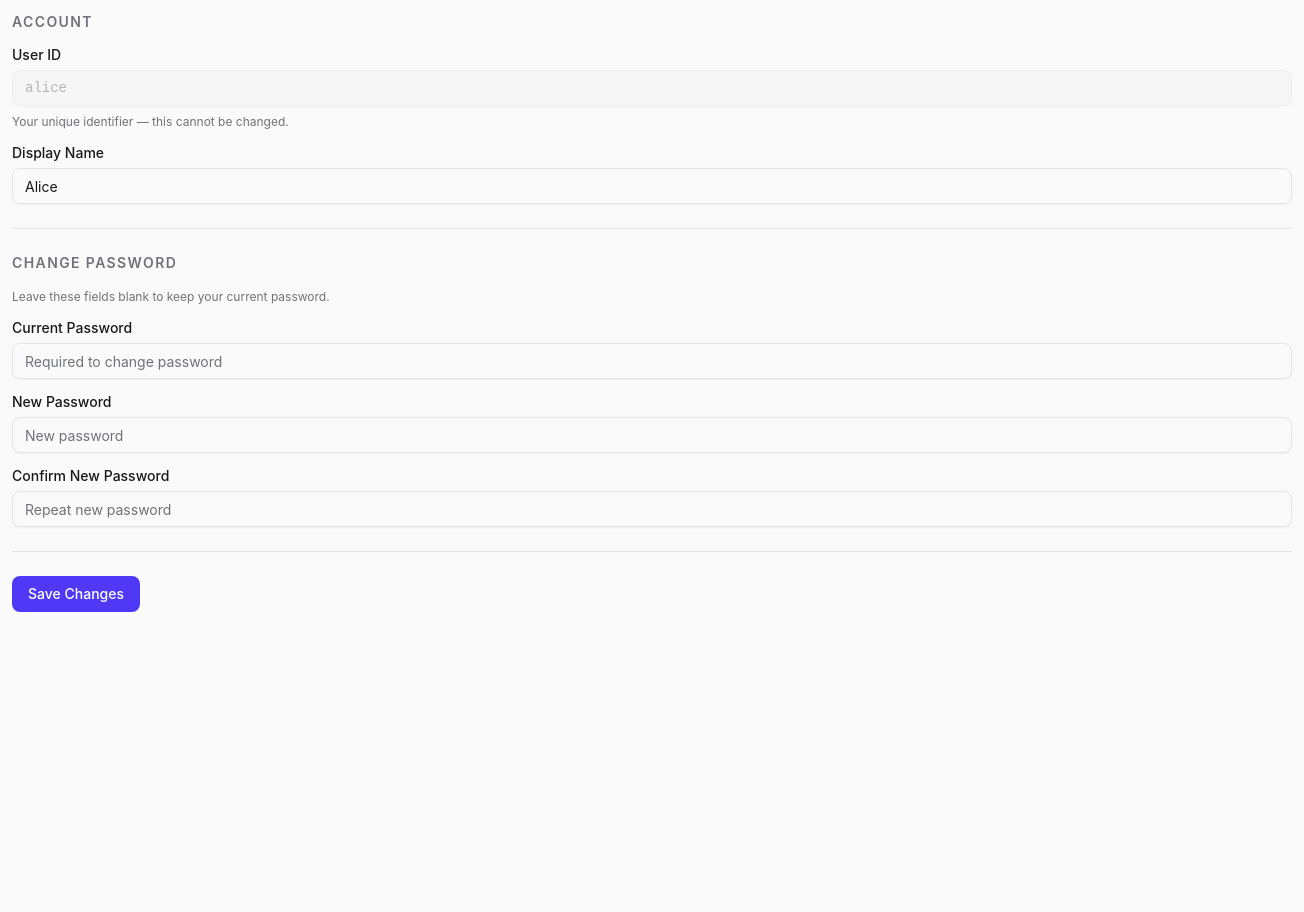
Test: ProfileForm › requires current password when setting new password
This screenshot has width=1304, height=912.
Check: the field labelled "Display Name" holds "Alice", box [12,168,1292,204]
Type "newpass" into the password field labelled "New Password" at x=652, y=435, box [12,417,1292,453]
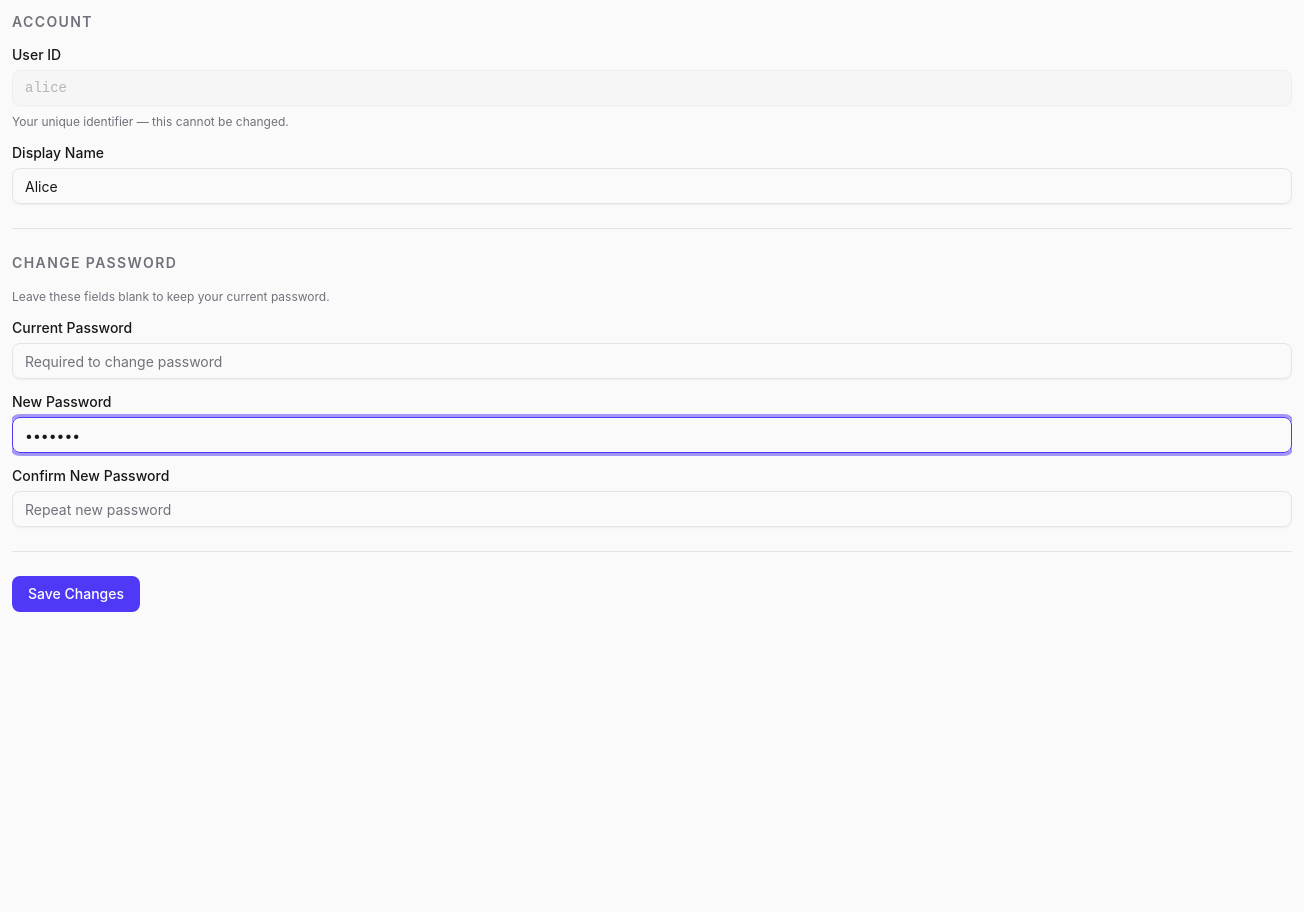
Type "newpass" into the password field labelled "Confirm New Password" at x=652, y=509, box [12,491,1292,527]
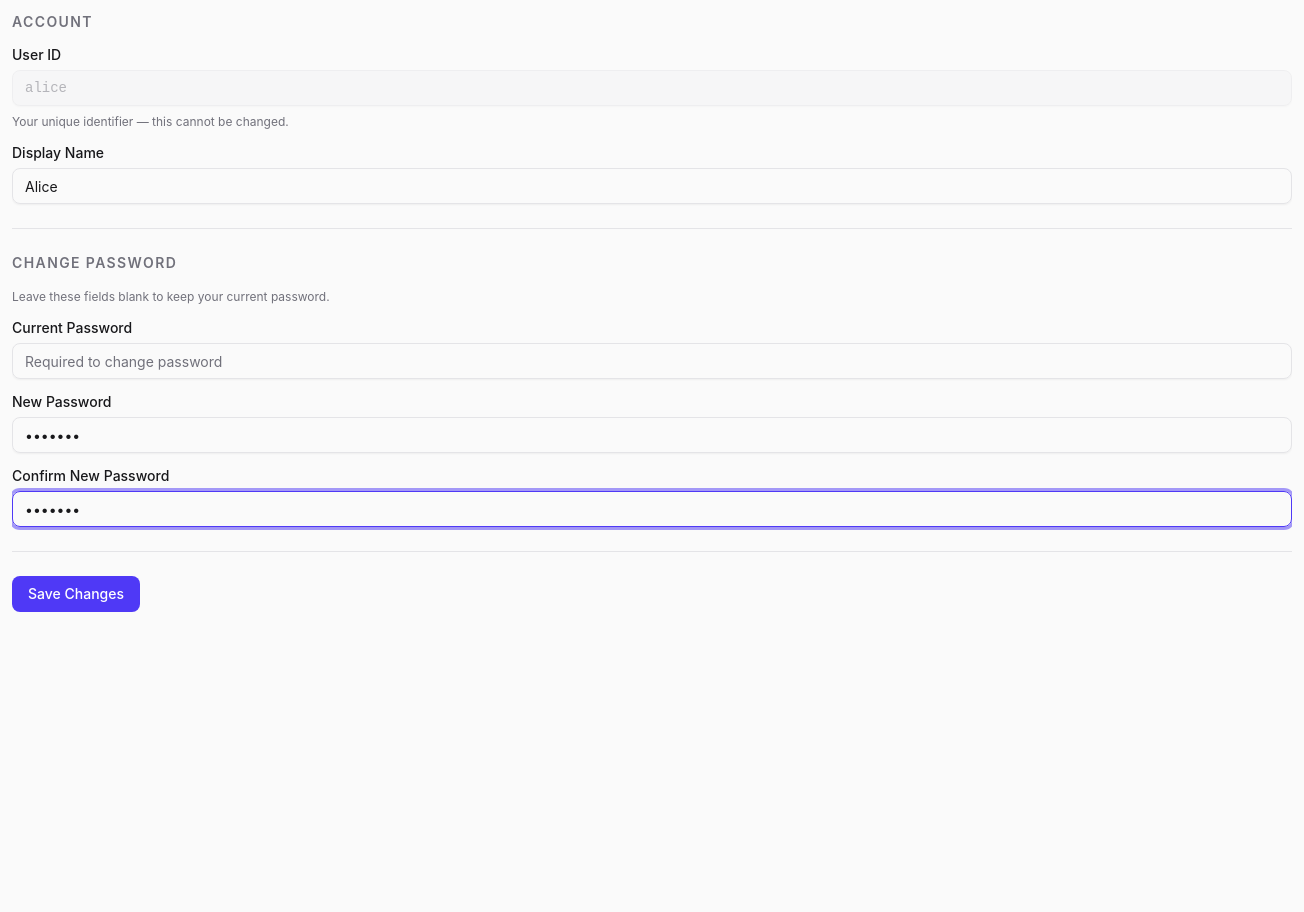
Click the button "Save Changes" at x=76, y=594, box [12,576,140,612]
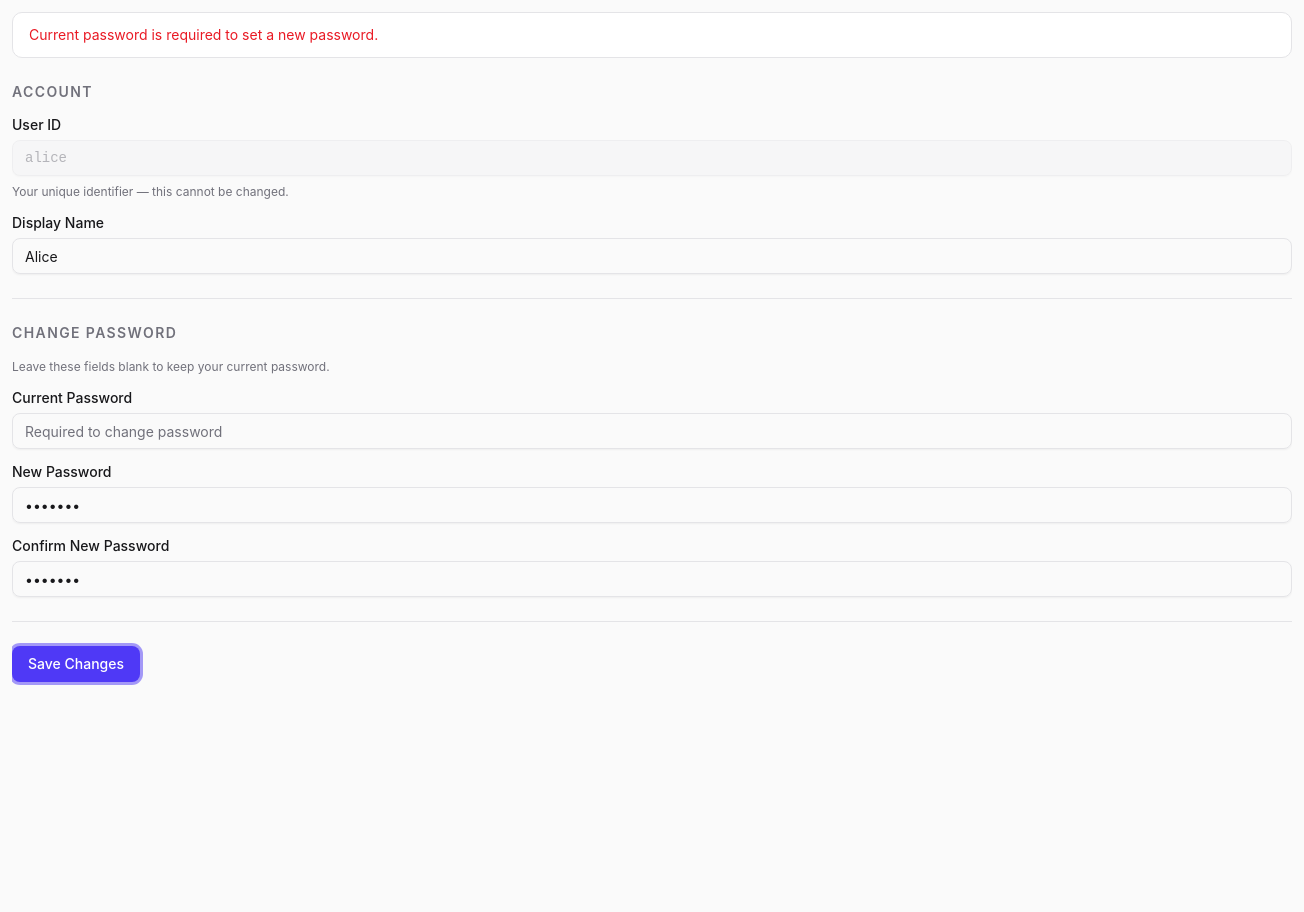
Check: the text "Current password is required to set a new password." is shown, box [29,26,378,43]
